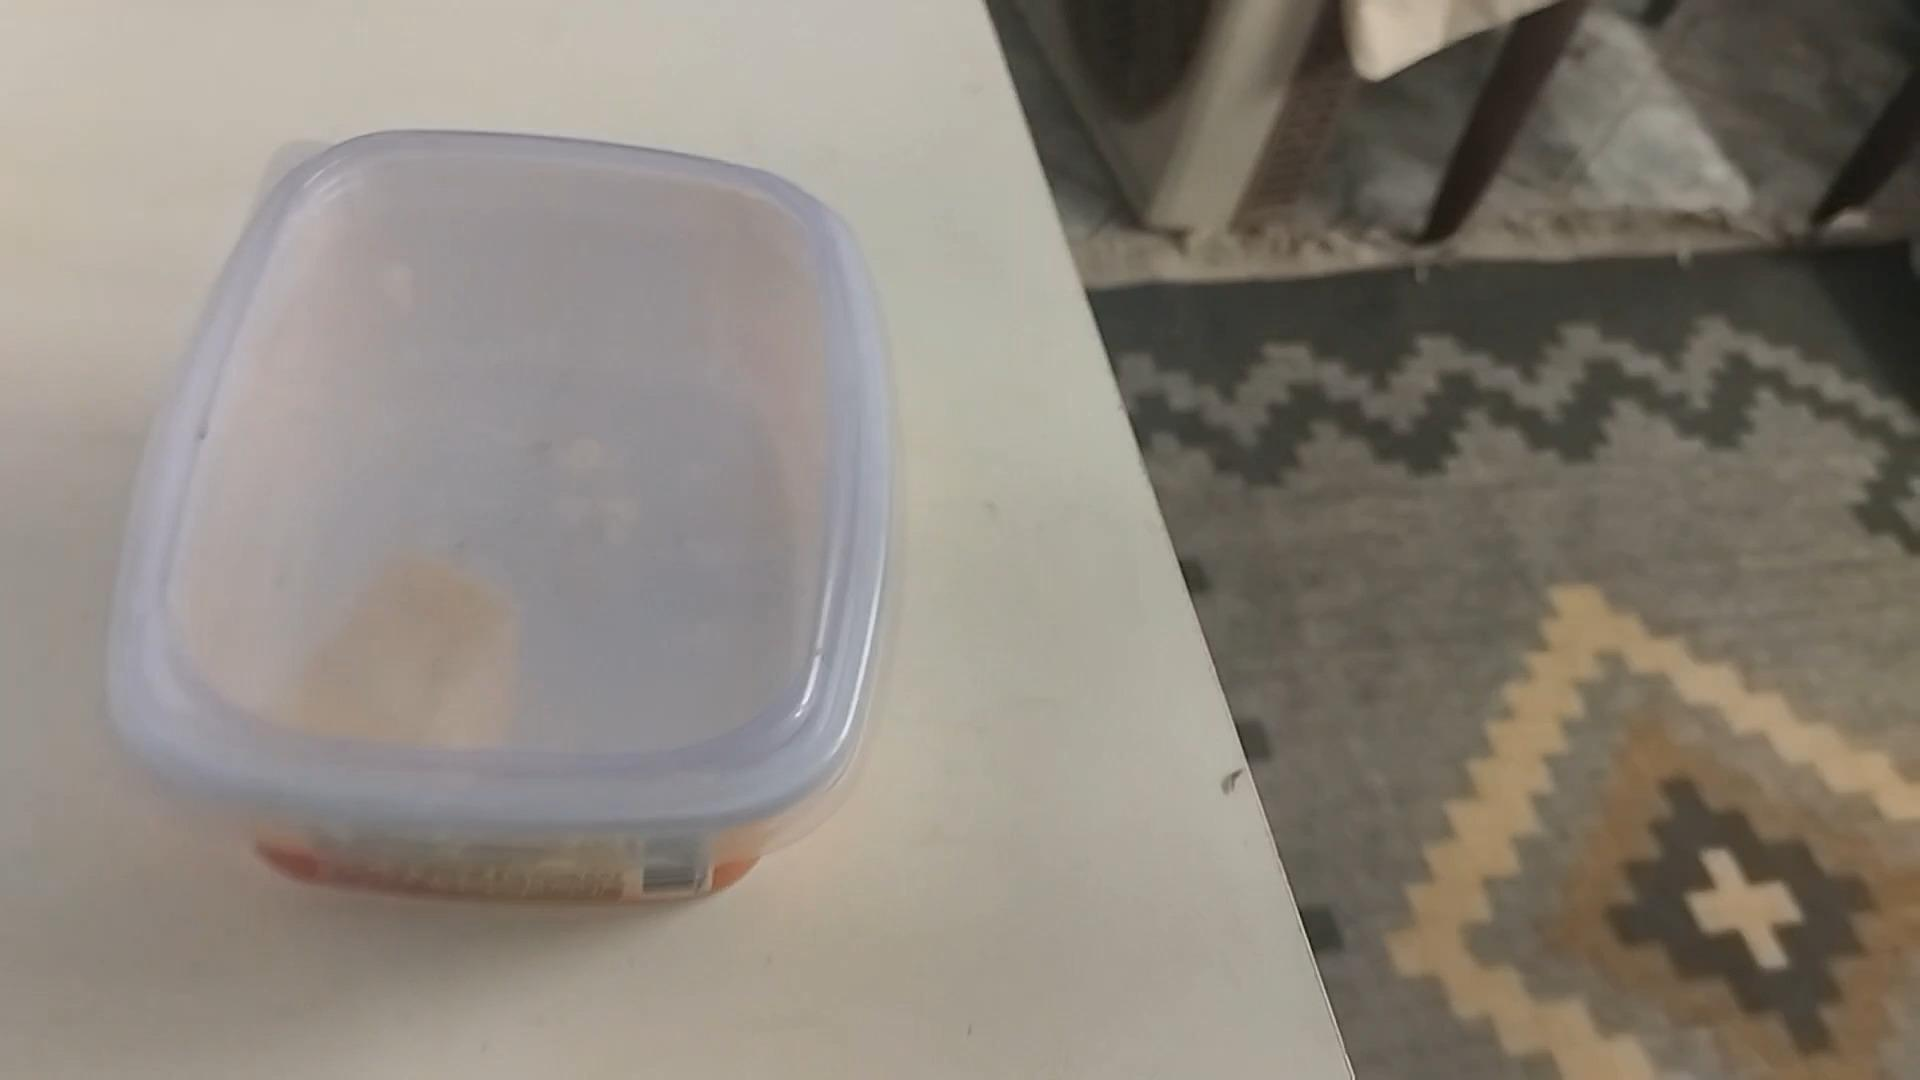butter: (104, 132, 886, 909)
